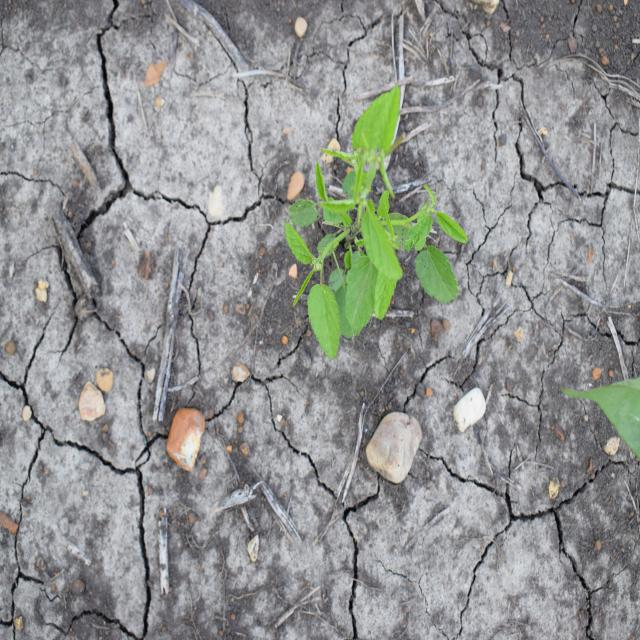PricklySida: (283, 82, 470, 362)
